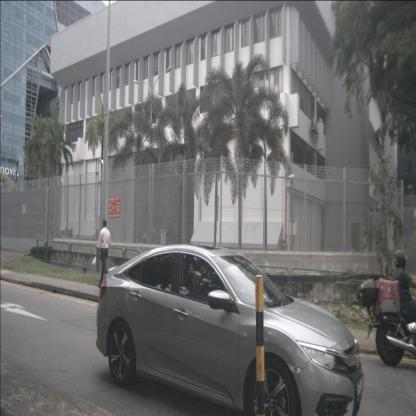human-pedestrian-adult: (92, 220, 111, 288)
vehicle-car: (96, 242, 364, 416)
vehicle-motorcycle: (356, 249, 416, 367)
